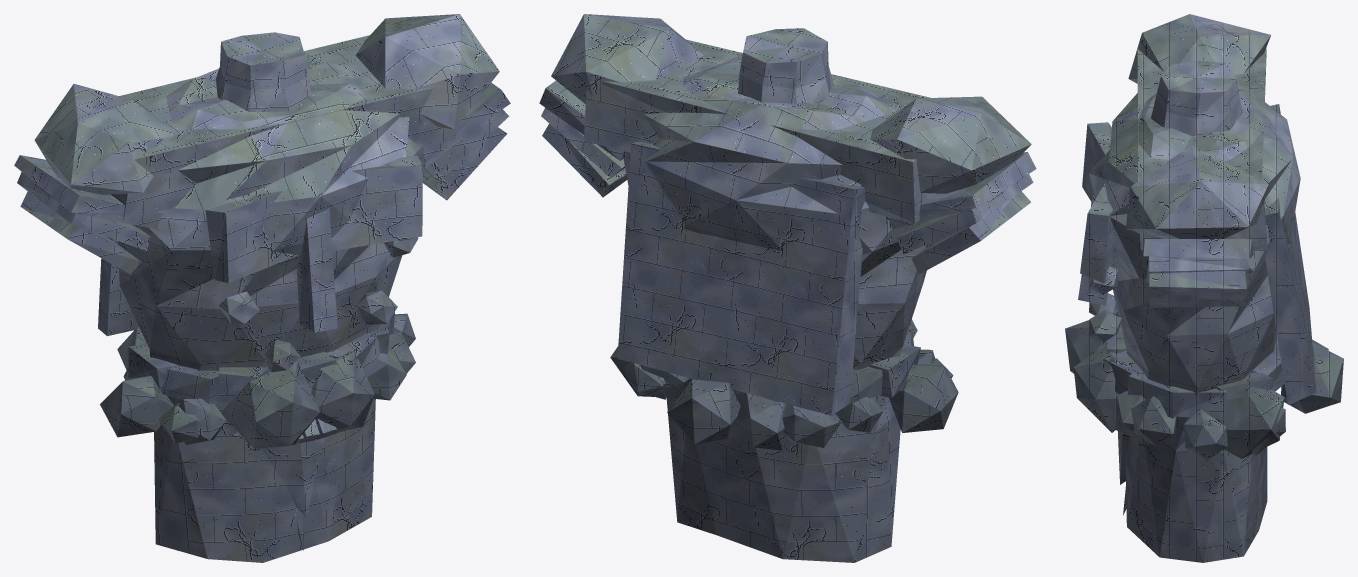
Rendered from colossus.glb.
3 views of the same model, side by side, from view 1: azimuth 30°, elevation 25°; view 2: azimuth 150°, elevation 25°; view 3: azimuth 270°, elevation 25° (orthographic). The views are drawn at different scales.
Visible parts, largest first — view 1: torso, head; view 2: torso; view 3: torso, head.
Boxes of the visible parts, left/top/right/bottom form: torso: left=14, top=14, right=510, bottom=562; head: left=262, top=437, right=324, bottom=550; torso: left=539, top=14, right=1036, bottom=562; torso: left=1065, top=14, right=1343, bottom=562; head: left=1117, top=431, right=1130, bottom=515.
Size of the model in its own units: 22.13 by 23.12 by 13.08.
2 materials, 1 textured.
